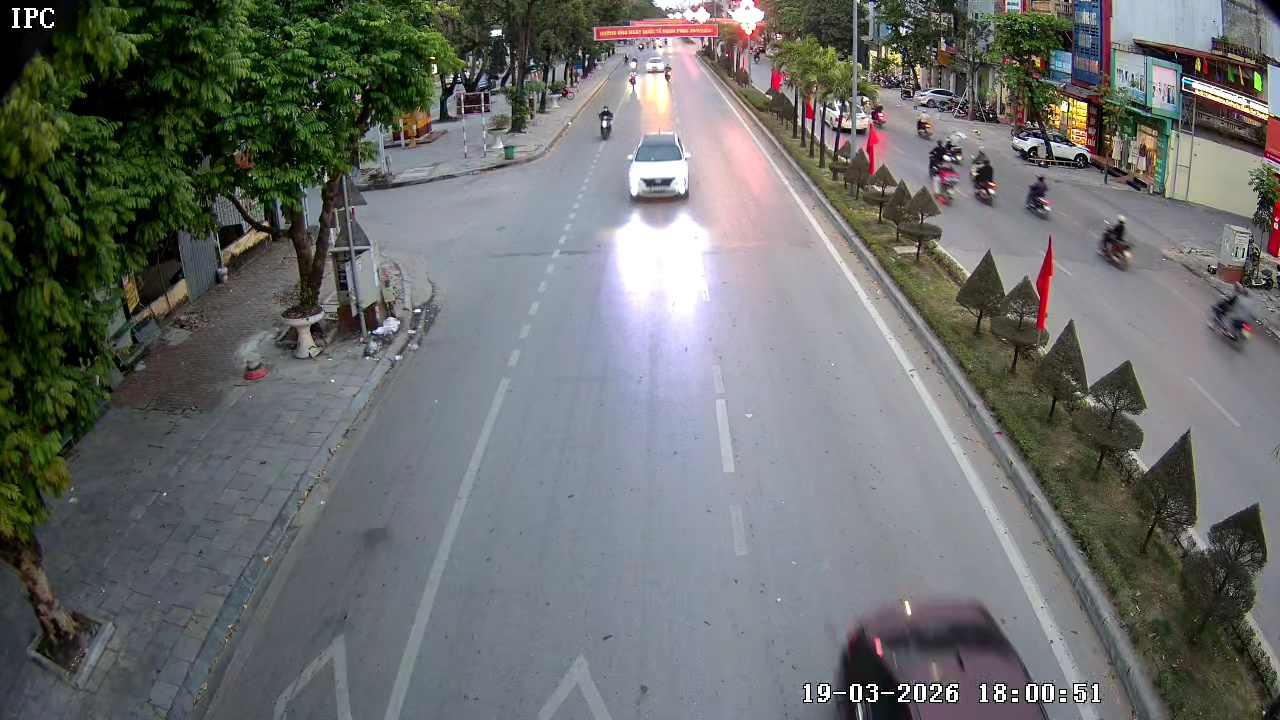car: (626, 132, 692, 203)
motorbike: (1096, 213, 1135, 272), (969, 147, 998, 208), (1024, 169, 1052, 219), (598, 106, 615, 139)
